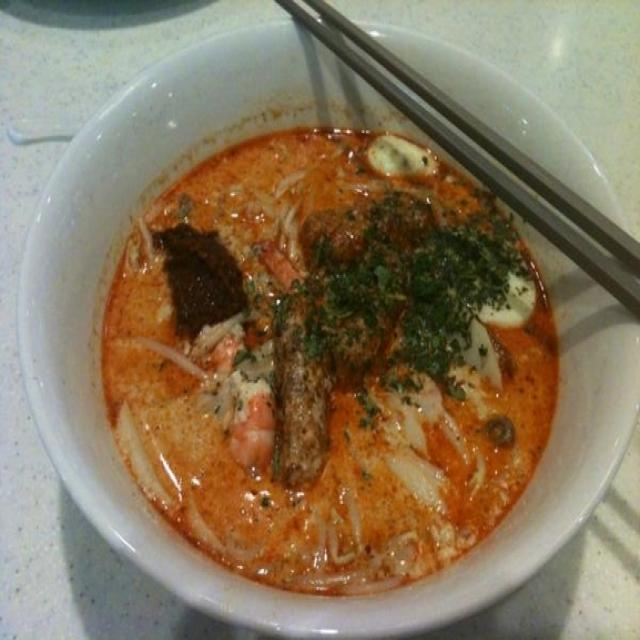面条主食: (16, 10, 634, 624)
